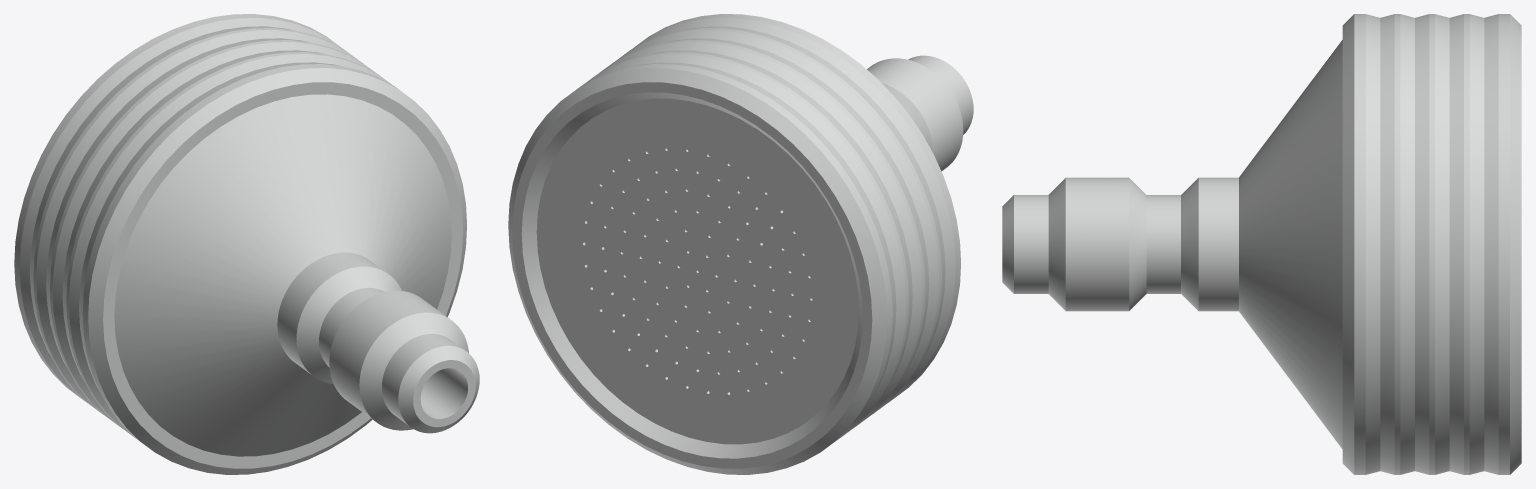
File: watering_nozzle_v19.glb
3 renders of one model, left to right at view 1: azimuth 30°, elevation 25°; view 2: azimuth 150°, elevation 25°; view 3: azimuth 270°, elevation 25°, orthographic. The views are drawn at different scales.
Parts seen in each view (by area): view 1: Watering Nozzle V19; view 2: Watering Nozzle V19; view 3: Watering Nozzle V19.
Part boxes in pixels (bbox=[...]): Watering Nozzle V19: bbox=[14, 14, 479, 474]; Watering Nozzle V19: bbox=[508, 14, 973, 474]; Watering Nozzle V19: bbox=[1002, 14, 1521, 474].
Bounding box in the file's own units: 0.04 × 0.0399 × 0.045.
1 material, 1 textured.
